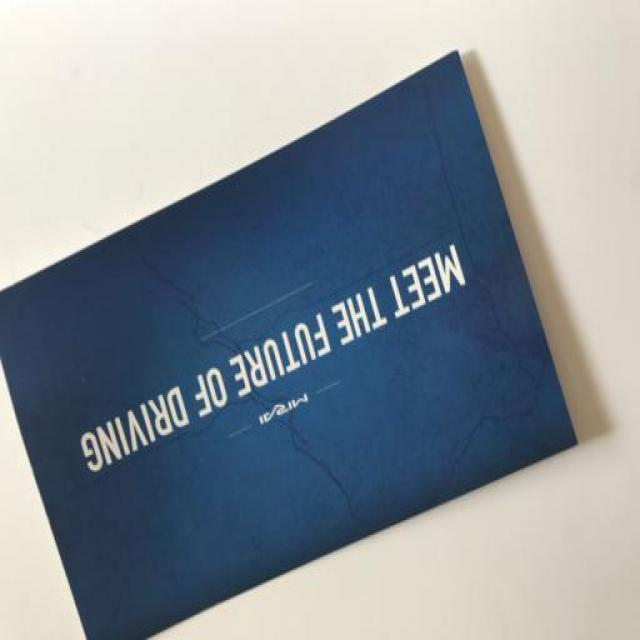paper: (6, 47, 640, 640)
